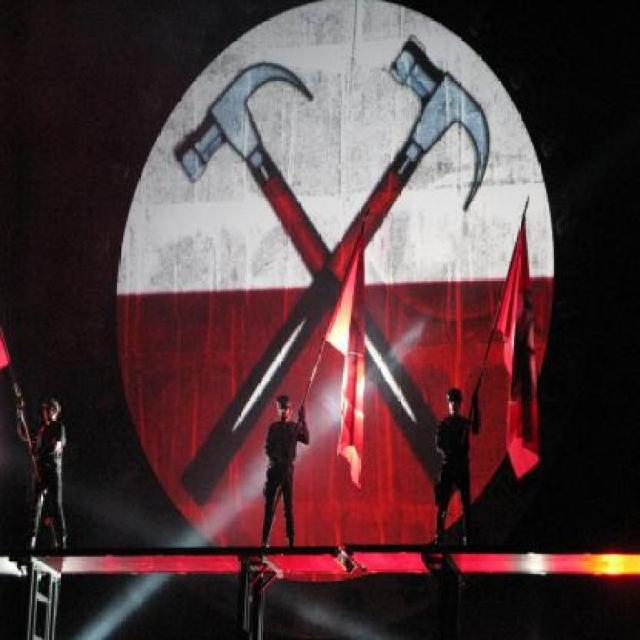Person: (15, 397, 68, 554), (432, 388, 481, 550), (262, 395, 309, 547)
